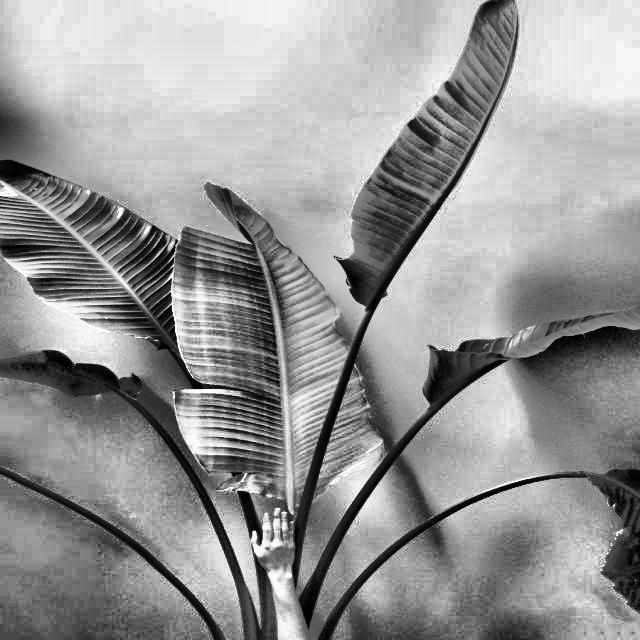plants: (7, 0, 639, 516), (177, 160, 326, 380)
